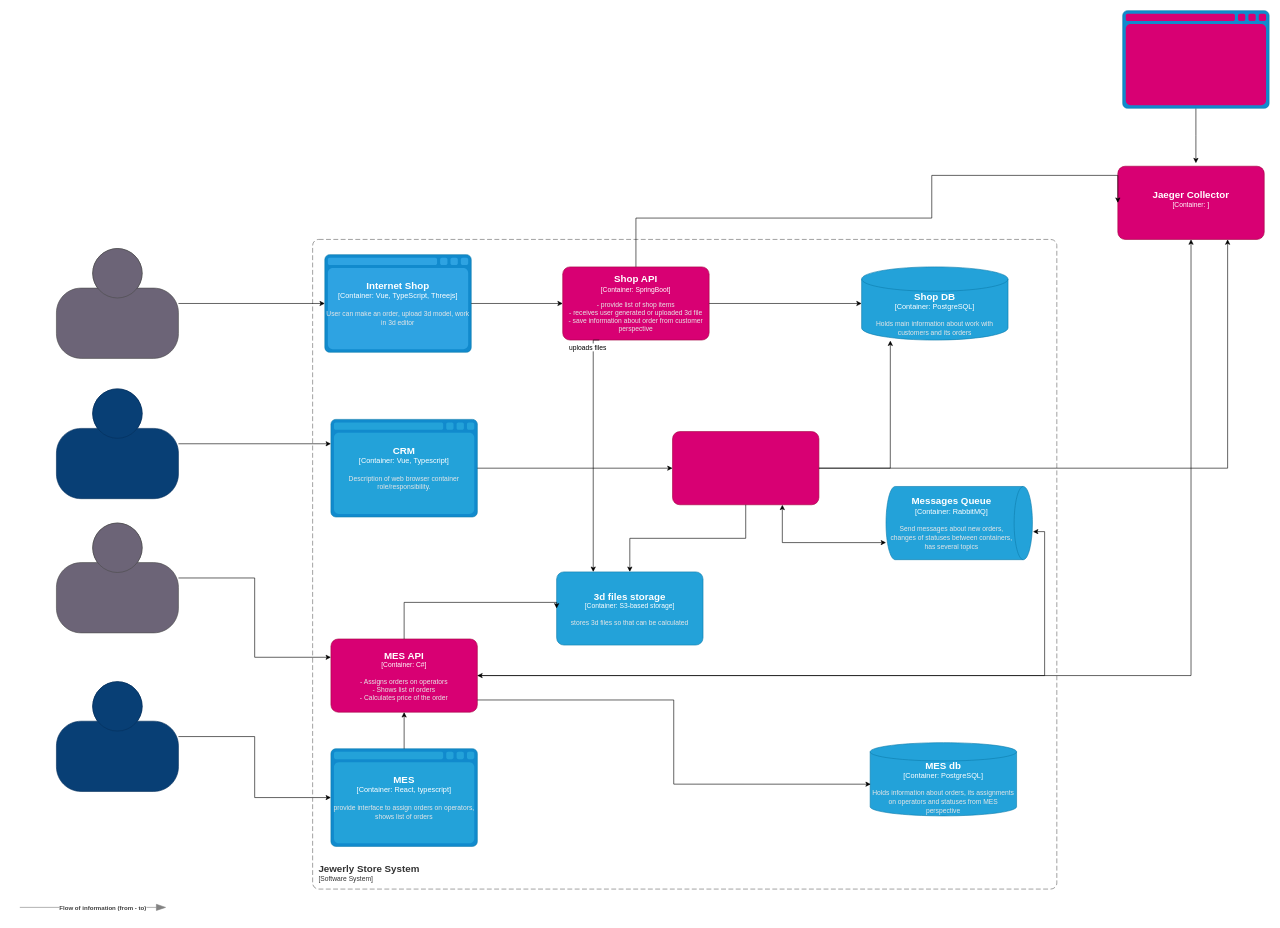
The diagram is 1280 pixels wide and 928 high, and some of its shapes have lost their labels. Each missing label, with the centre of its shape:
API user [Person] Description of external person.: the point at 117,577
CRM API [Container: SpringBoot] Description of container role/responsibility.: the point at 745,468
Customer [Person] Description of external person.: the point at 117,303
Jagger UI [Container: ]: the point at 1195,59
Operator [Person] Takes order in work, manufactures jewerly: the point at 117,736
Seller [Person] Operates with order, confirms manufacturing for the user: the point at 117,443
